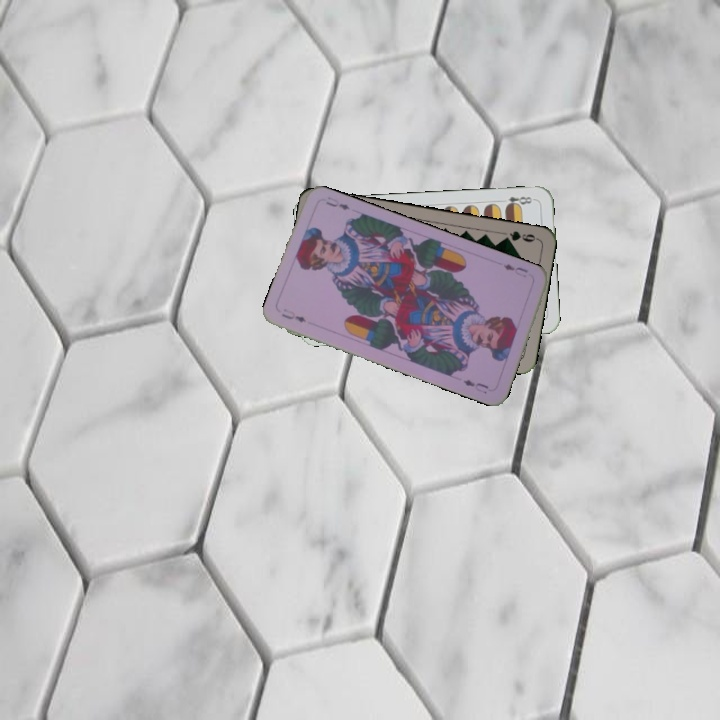E8: (501, 192, 537, 210)
EU: (277, 304, 309, 325), (499, 260, 531, 280)
G9: (499, 227, 540, 245)
